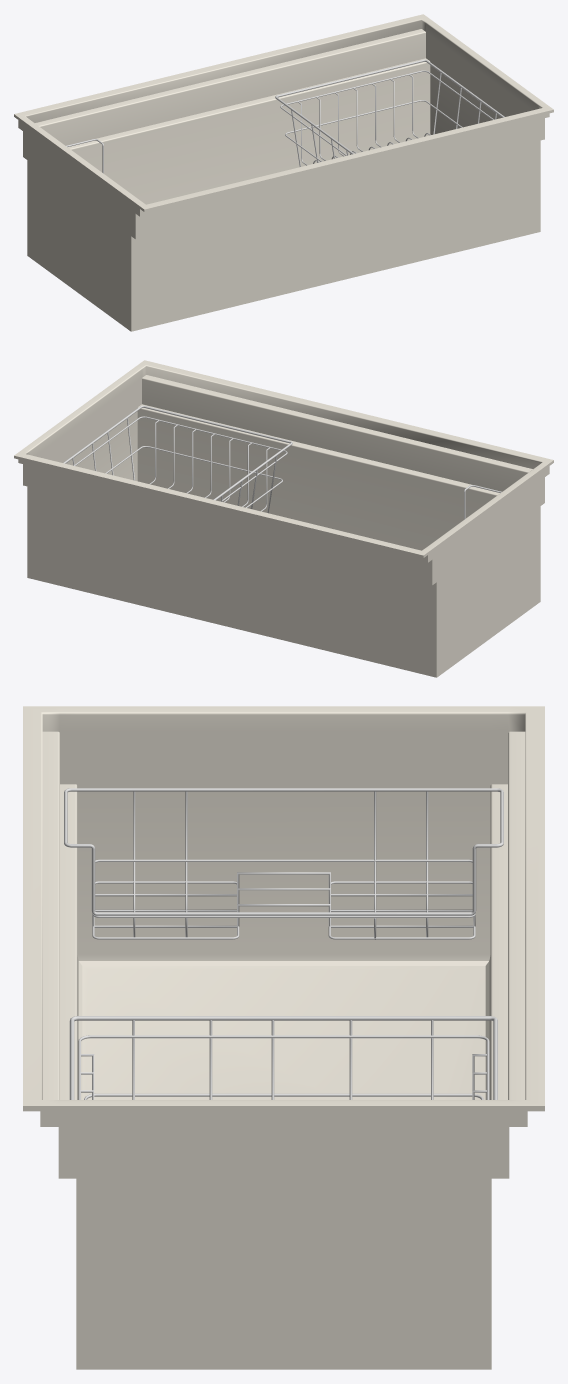
Rendered from sink_a.glb.
3 renders of one model, top to bottom at view 1: azimuth 30°, elevation 25°; view 2: azimuth 150°, elevation 25°; view 3: azimuth 270°, elevation 25°, orthographic. The views are drawn at different scales.
Parts seen in each view (by area): view 1: BP_SSU000166; view 2: BP_SSU000166; view 3: BP_SSU000166.
Part boxes in pixels (x1,y1,x2,y2): BP_SSU000166: (14,14,553,331); BP_SSU000166: (14,360,553,677); BP_SSU000166: (23,706,544,1369).
Size of the model in its own units: 0.817 by 0.255 by 0.4507.
4 materials, 1 textured.
